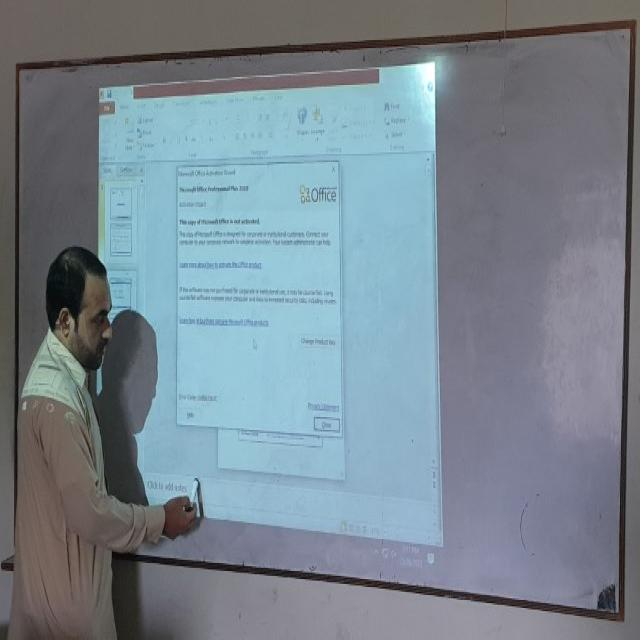Instructor: (25, 237, 117, 624)
Slide: (92, 63, 443, 580)
White-board: (17, 24, 635, 616)
